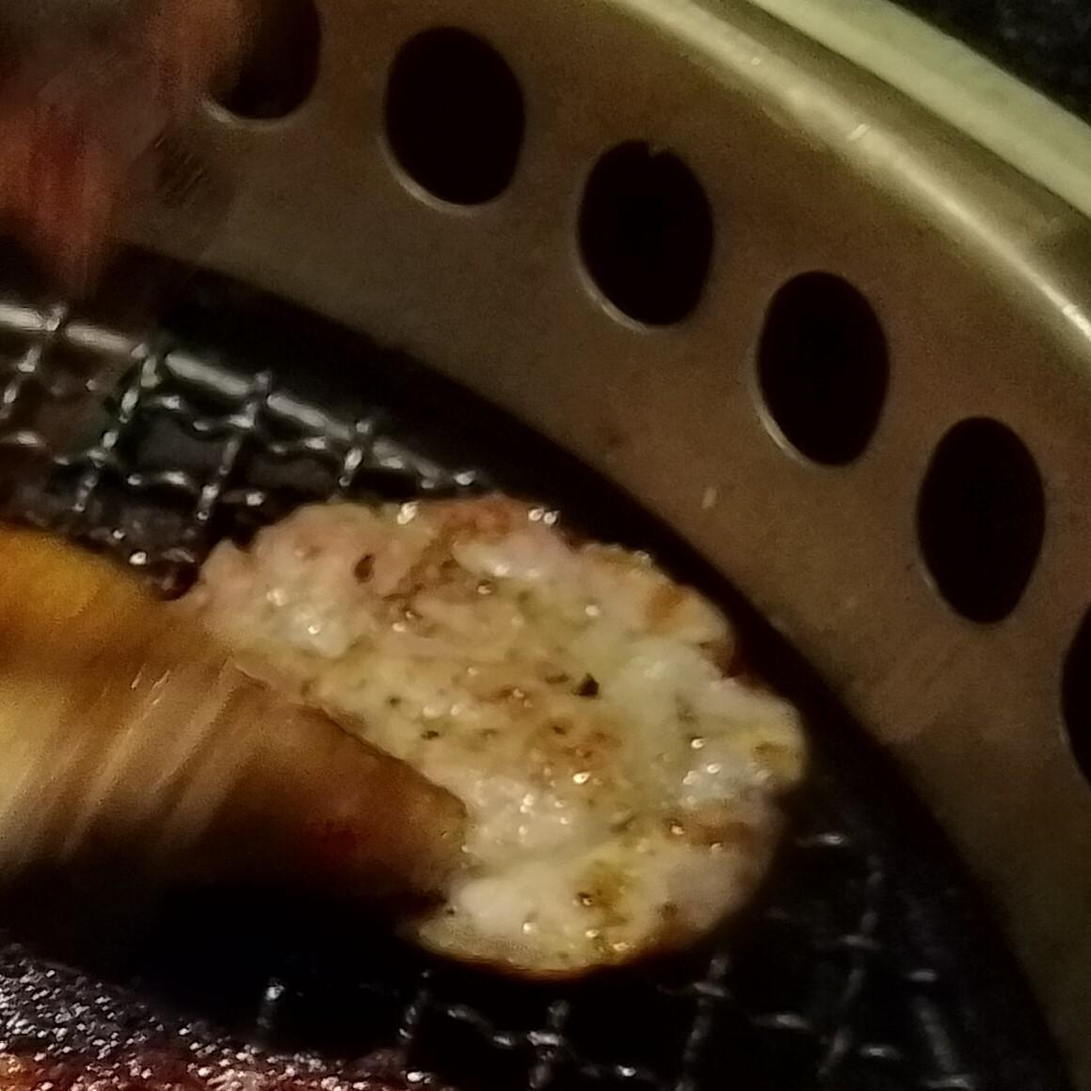Well-Cooked: (178, 495, 808, 975)
